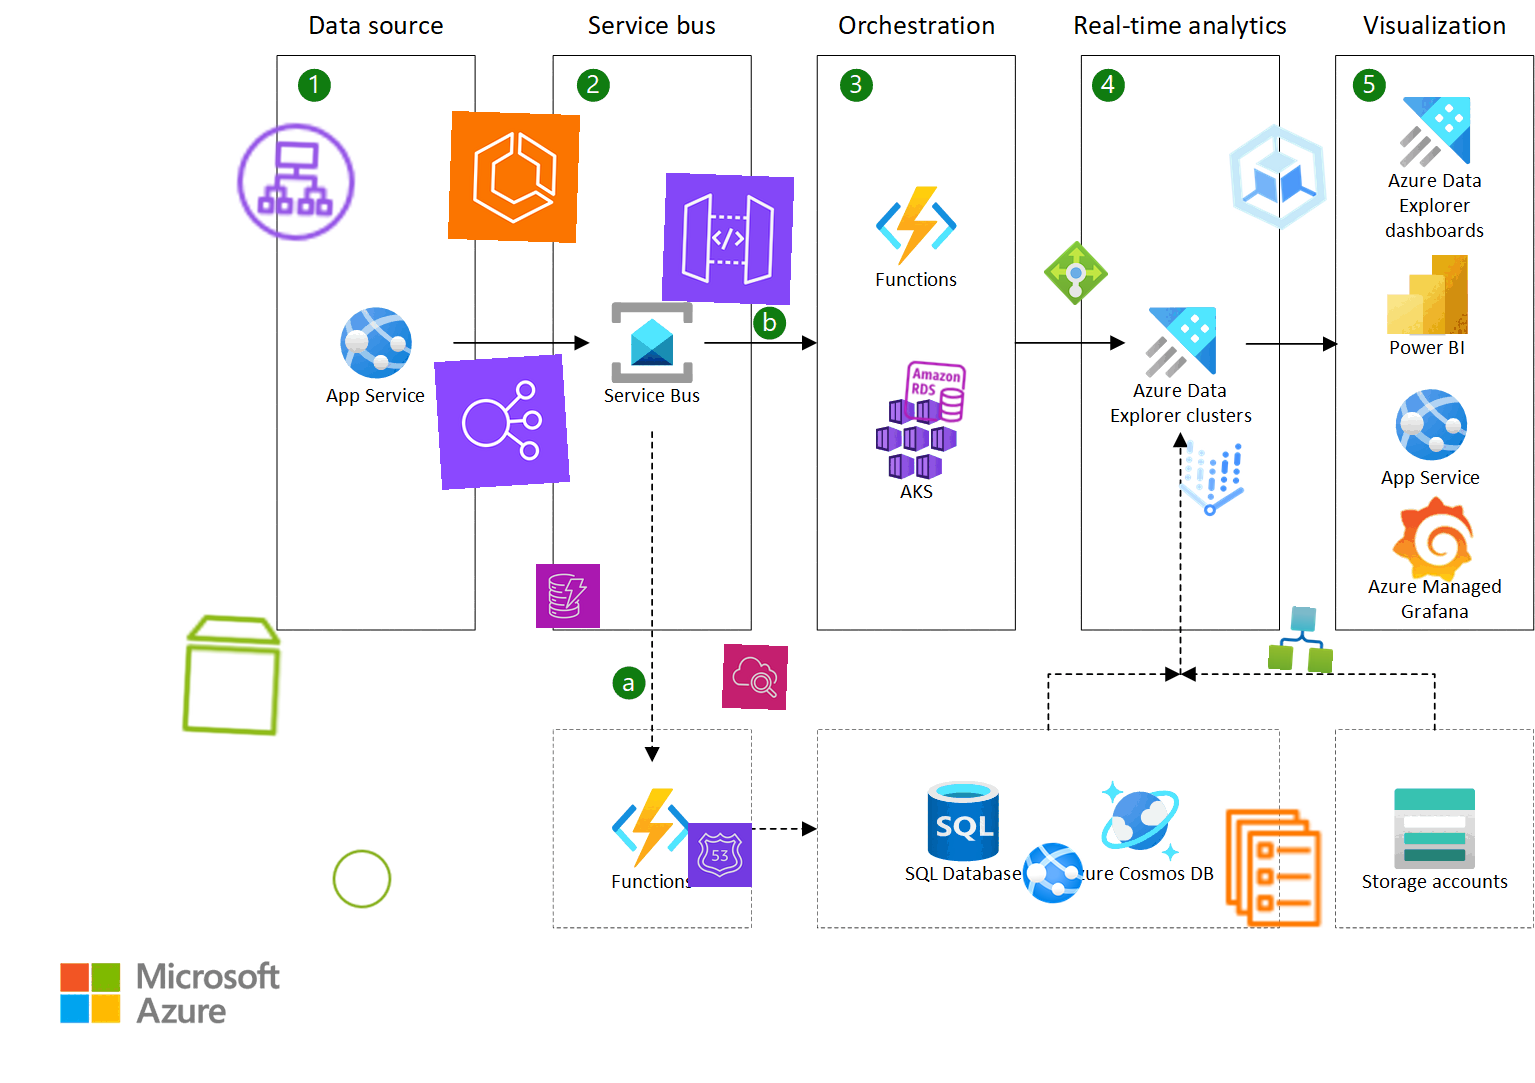aws_amazon_api_gateway: (661, 172, 794, 306)
aws_amazon_cloudwatch: (721, 643, 789, 711)
aws_amazon_dynamodb: (535, 563, 601, 629)
aws_amazon_elastic_container_service: (446, 110, 581, 244)
aws_amazon_route_53: (687, 822, 753, 888)
aws_aurora_amazon_rds_instance: (900, 357, 970, 427)
aws_elastic_block_store_volume: (165, 607, 301, 743)
aws_elastic_container_service_service: (1209, 803, 1339, 933)
aws_elastic_load_balancing: (434, 354, 569, 490)
aws_elastic_load_balancing_application_load_balancer: (228, 115, 363, 248)
aws_simple_storage_service_object: (328, 845, 396, 913)
azure_app_services: (1018, 838, 1089, 908)
azure_load_balancers: (1042, 239, 1110, 307)
azure_logic_apps: (1267, 604, 1337, 674)
gcp_google_kubernetes_engine: (1209, 108, 1348, 246)
gcp_vertex_ai: (1160, 427, 1264, 531)
